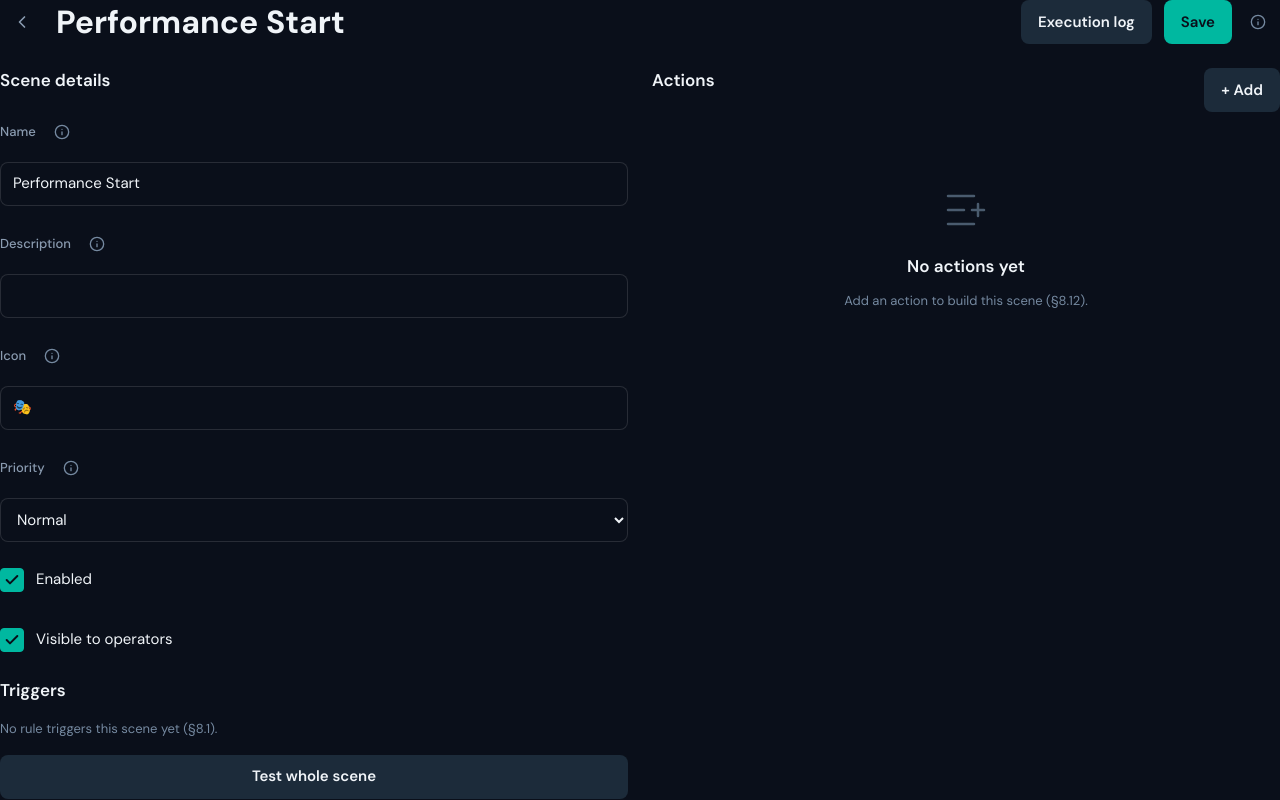
SceneEditor — unsaved-changes guard › shows the exact guard text and does not leave until told to
Replace the text in the field labelled "Name" with "Performance Start (edited)" at (314, 184), box [0,162,628,206]
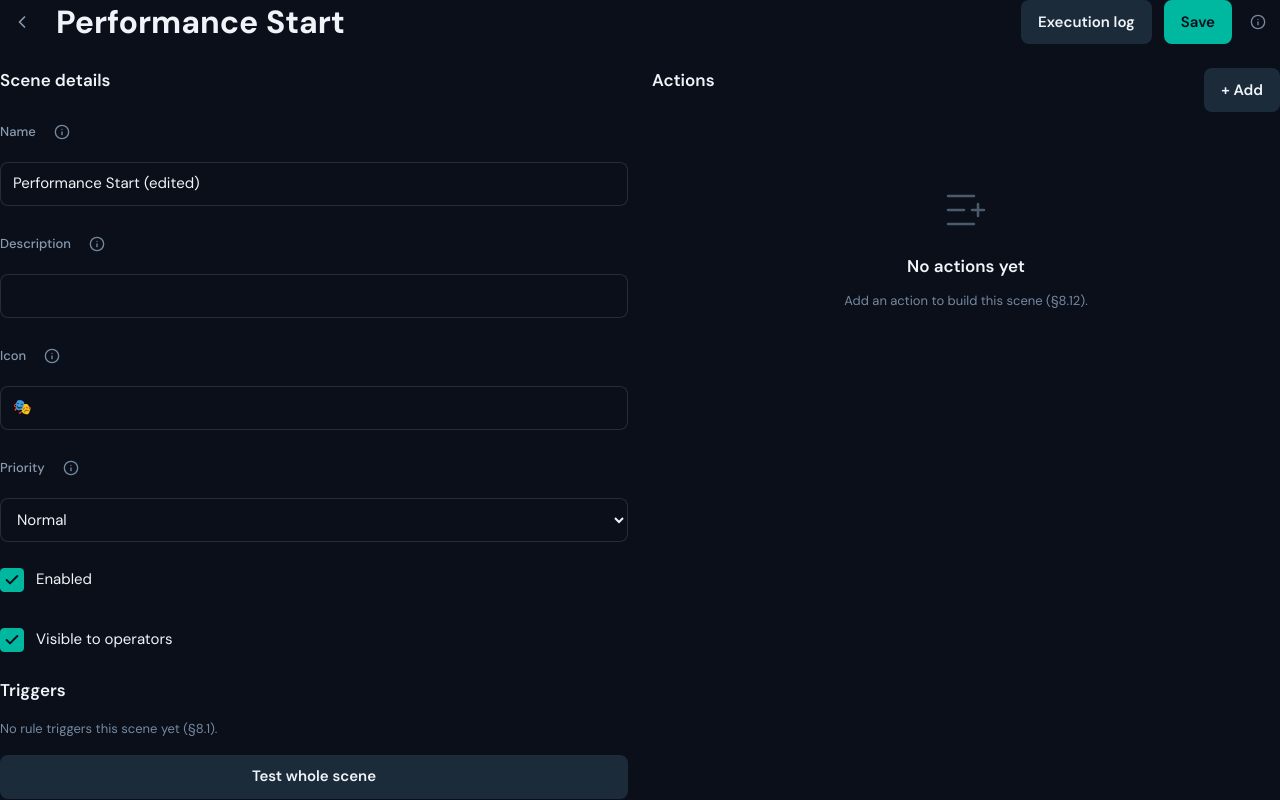
Click the button named "Back to scenes" at (22, 22), box [0,0,44,44]
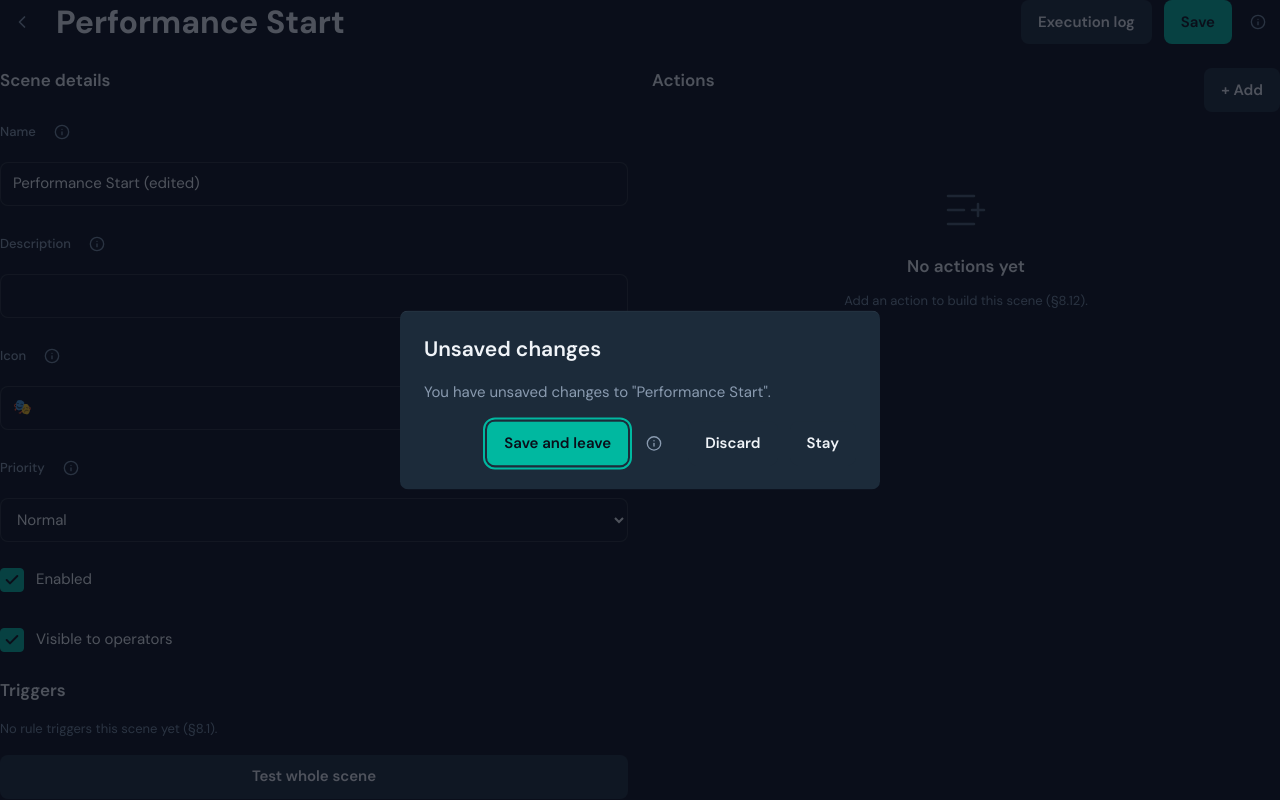
Now the heading "Unsaved changes" is shown, box [424,335,601,363]
Now the text "You have unsaved changes to \"Performance Start\"." is shown, box [424,383,771,403]
